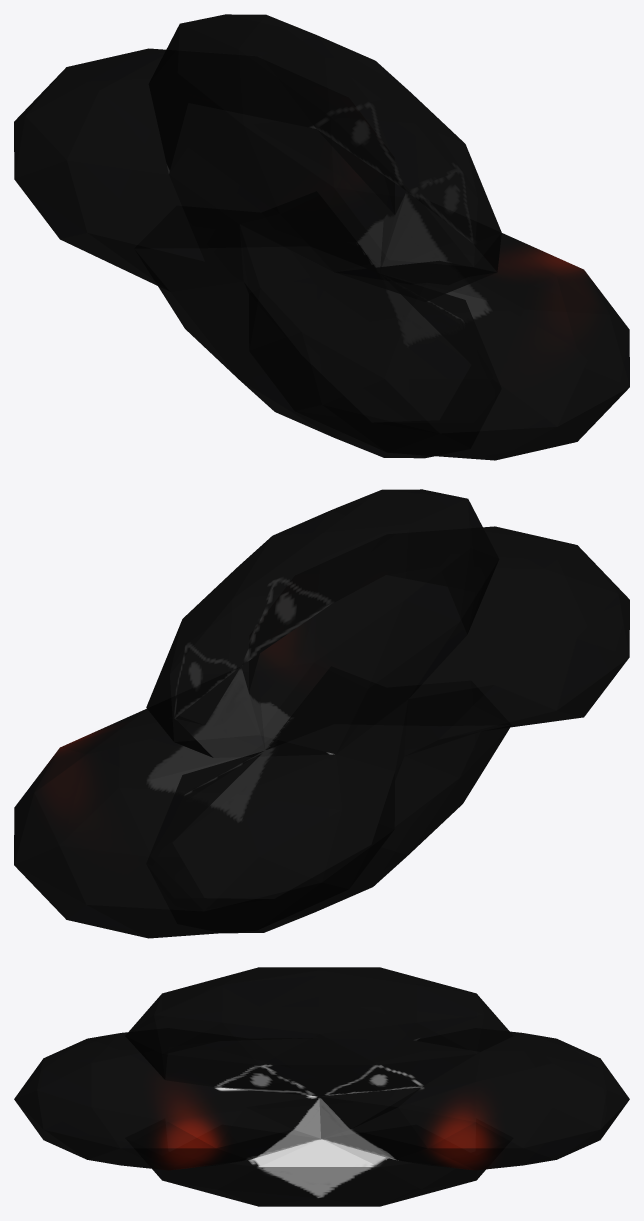
File: CloudStar.fbx
3 views of the same model, one above another, from view 1: azimuth 30°, elevation 25°; view 2: azimuth 150°, elevation 25°; view 3: azimuth 270°, elevation 25° (orthographic). The views are drawn at different scales.
Parts seen in each view (by area): view 1: Cloudstar; view 2: Cloudstar; view 3: Cloudstar.
Boxes of the visible parts, x1,y1,x2,y2 form: Cloudstar: (14,14,629,460); Cloudstar: (14,489,629,938); Cloudstar: (14,967,629,1206).
Size of the model in its own units: 404 by 448 by 1072.
1 material, 1 textured.
